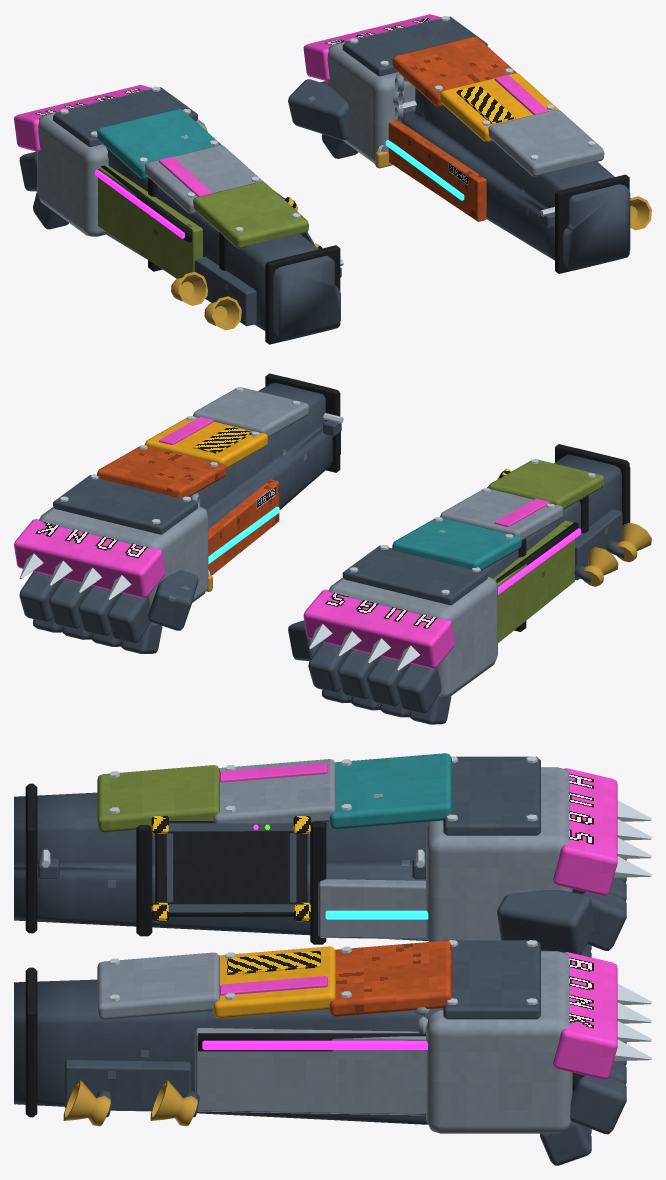
The model's file is x_rigarms.glb.
The picture shows the model from 3 angles, top to bottom: view 1: azimuth 30°, elevation 25°; view 2: azimuth 150°, elevation 25°; view 3: azimuth 270°, elevation 25°; orthographic projection. The views are drawn at different scales.
Parts seen in each view (by area): view 1: fparmR_gun, fparmL_gun, fparmL_olive, fparmR_rust, fpfistR_gun, fpfistL_steel, fpfistR_steel, fparmR_steel, fpfistL_gun, fparmL_teal, fparmL_steel, fparmL_black (+12 smaller); view 2: fpfistR_gun, fpfistL_gun, fparmR_gun, fparmL_olive, fparmR_rust, fpfistL_steel, fpfistL_accent, fpfistR_accent, fparmL_gun, fpfistR_steel, fparmL_teal, fparmR_steel (+14 smaller); view 3: fparmR_steel, fparmR_gun, fparmL_gun, fpfistR_steel, fparmL_black, fpfistL_gun, fpfistL_steel, fpfistR_gun, fparmL_steel, fparmL_teal, fparmR_rust, fparmL_olive (+17 smaller).
Boxes of the visible parts, <box> form: fparmR_gun: <box>402,88,630,270</box>; fparmL_gun: <box>106,147,341,340</box>; fparmL_olive: <box>98,165,308,278</box>; fparmR_rust: <box>388,37,517,221</box>; fpfistR_gun: <box>288,16,487,158</box>; fpfistL_steel: <box>37,89,207,236</box>; fpfistR_steel: <box>326,19,439,163</box>; fparmR_steel: <box>488,109,604,176</box>; fpfistL_gun: <box>19,87,197,229</box>; fparmL_teal: <box>97,109,221,179</box>; fparmL_steel: <box>145,145,263,213</box>; fparmL_black: <box>100,165,340,344</box>; fpfistR_gun: <box>19,475,198,653</box>; fpfistL_gun: <box>288,545,487,724</box>; fparmR_gun: <box>190,377,341,528</box>; fparmL_olive: <box>488,459,604,642</box>; fparmR_rust: <box>97,444,279,575</box>; fpfistL_steel: <box>328,576,497,698</box>; fpfistL_accent: <box>303,589,455,668</box>; fpfistR_accent: <box>14,519,165,597</box>; fparmL_gun: <box>482,448,630,582</box>; fpfistR_steel: <box>39,506,208,627</box>; fparmL_teal: <box>392,517,521,570</box>; fparmR_steel: <box>193,387,308,437</box>; fparmR_steel: <box>97,952,426,1115</box>; fparmR_gun: <box>14,979,443,1124</box>; fparmL_gun: <box>14,792,429,940</box>; fpfistR_steel: <box>426,951,572,1133</box>; fparmL_black: <box>25,783,326,944</box>; fpfistL_gun: <box>443,756,626,957</box>; fpfistL_steel: <box>426,767,572,941</box>; fpfistR_gun: <box>443,940,626,1165</box>; fparmL_steel: <box>213,759,427,939</box>; fparmL_teal: <box>329,753,452,829</box>; fparmR_rust: <box>329,940,452,1016</box>; fparmL_olive: <box>97,765,219,832</box>.
Bounding box in the file's own units: 0.912 × 0.2566 × 0.8806.
Materials: 16 (10 with a texture image).
